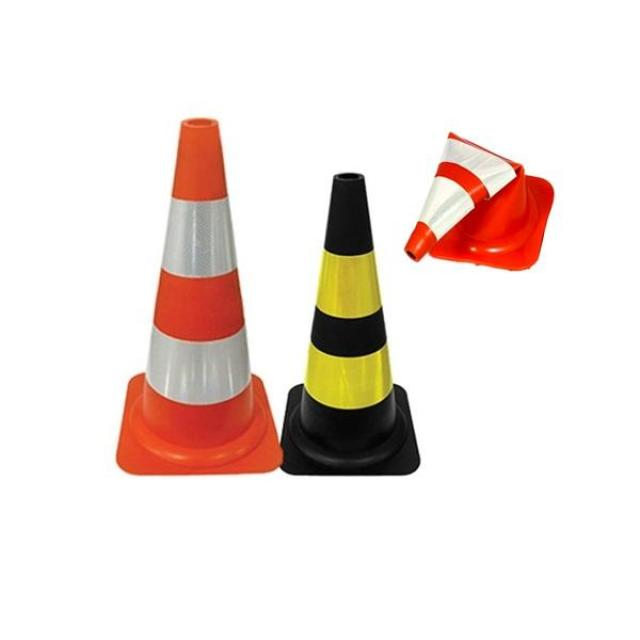cone: (136, 116, 266, 458), (282, 169, 423, 448)
